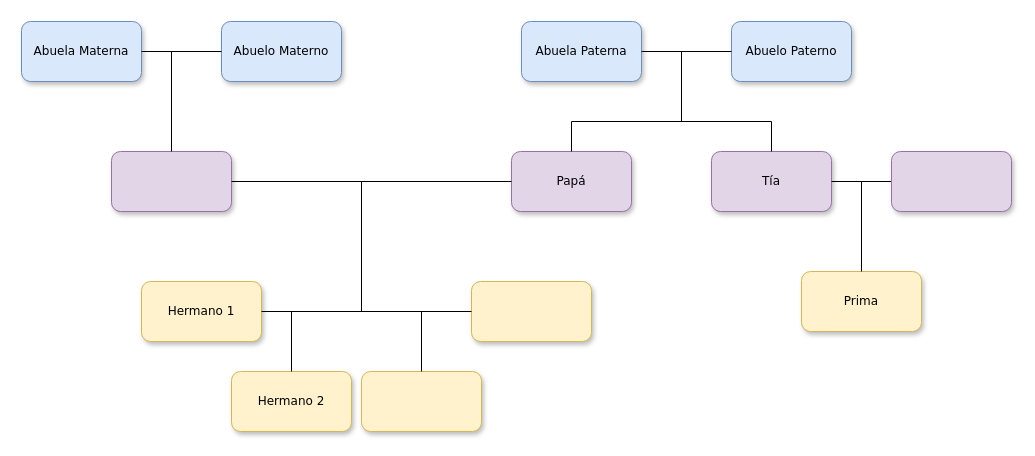
Some shapes in this 1035 by 456 pixel diagram are drawn without their labels. The centre of each missing label's shape, as x and y in pixels:
Hermano 3: the point at 422,402
Mamá: the point at 172,182
Tío: the point at 952,182
Yo: the point at 532,312
